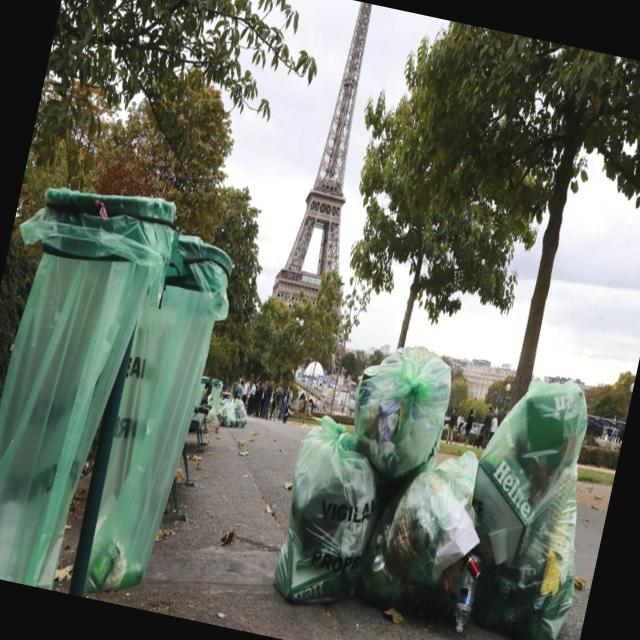garbage: (0, 131, 251, 612), (268, 308, 622, 640)
